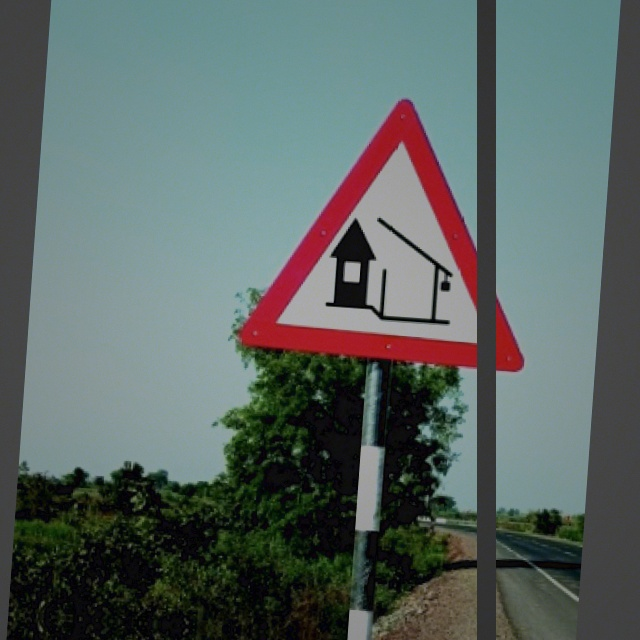Barrier_Ahead: (239, 88, 545, 374)
